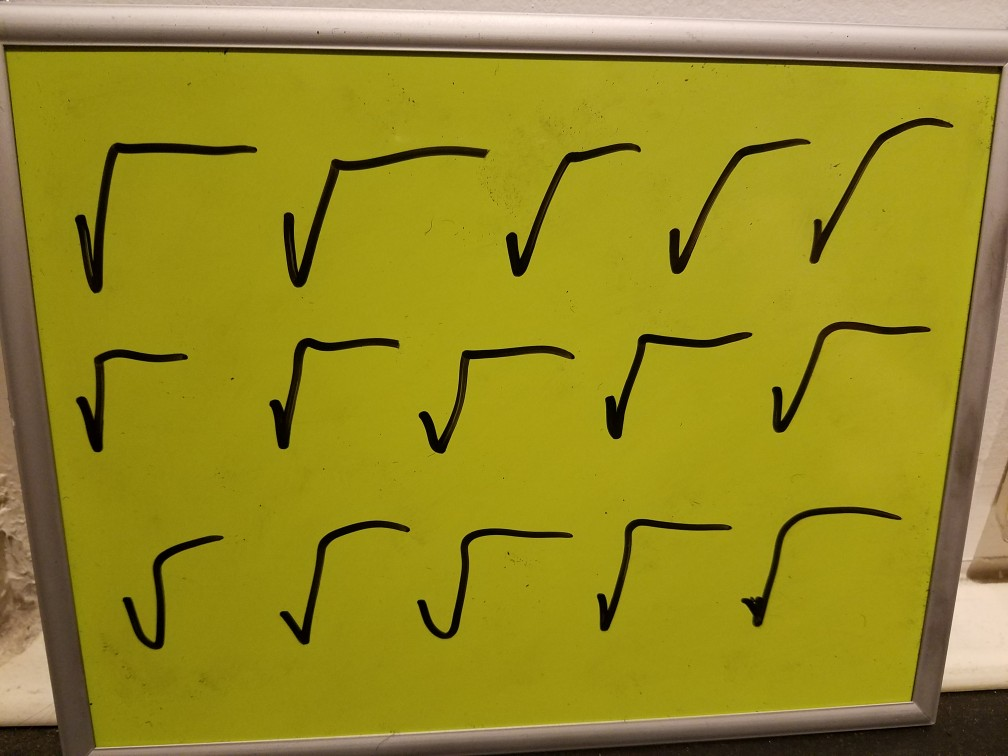sqrt: (281, 130, 495, 300), (62, 121, 258, 301), (738, 489, 921, 658), (418, 498, 586, 669), (248, 489, 412, 664), (805, 100, 959, 277), (400, 313, 588, 456), (251, 313, 412, 477), (654, 115, 809, 285), (586, 483, 740, 642), (764, 309, 923, 453), (501, 128, 641, 291), (595, 311, 756, 450), (105, 515, 223, 671), (68, 330, 204, 465)
